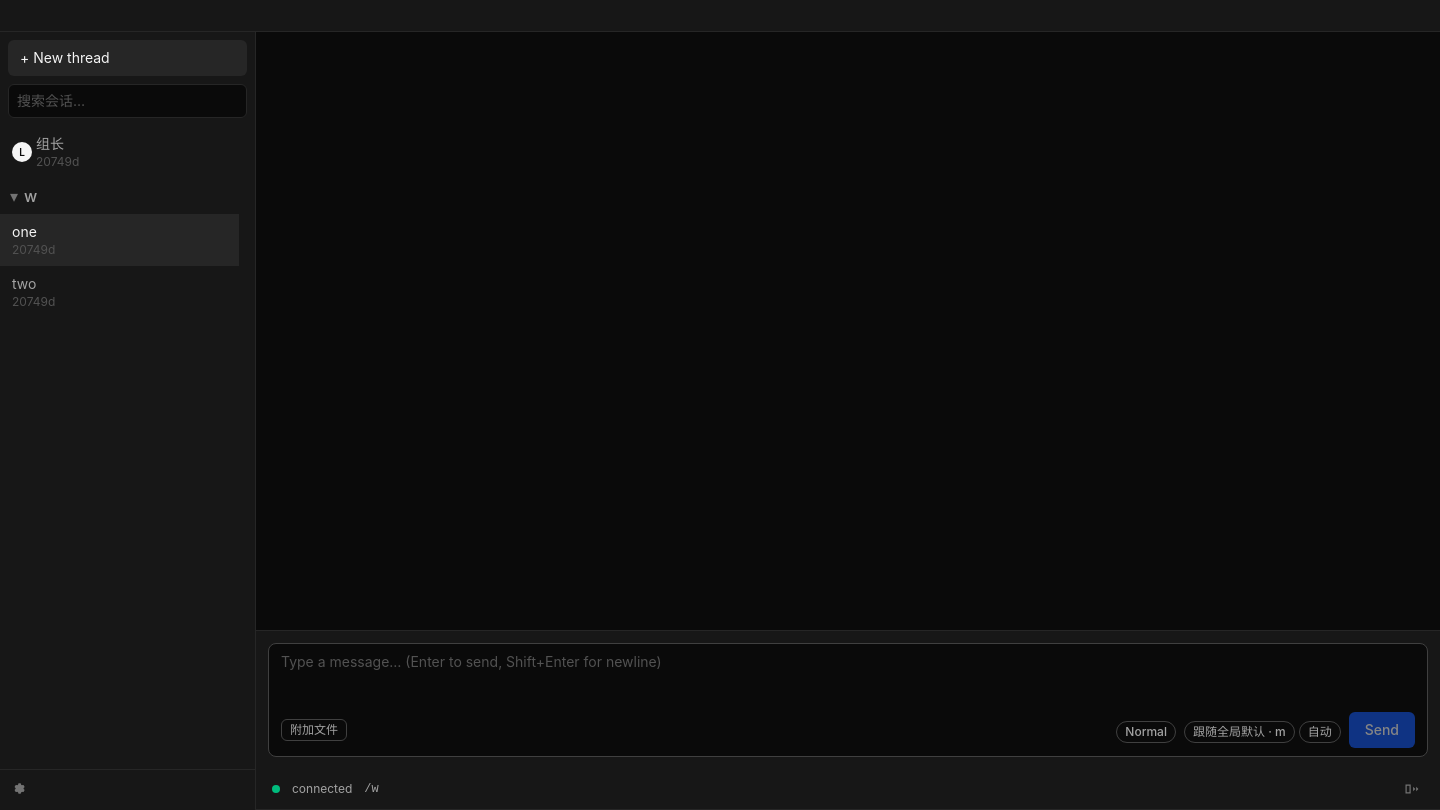
Scenario: App parallel threads › re-derives the chip on a warm switch (per-thread mode)
expect the button with aria-label "mode" reads "Normal": met, box [1116,720,1176,742]
Click the text "two".
click(24, 284)  # box [12,274,36,294]
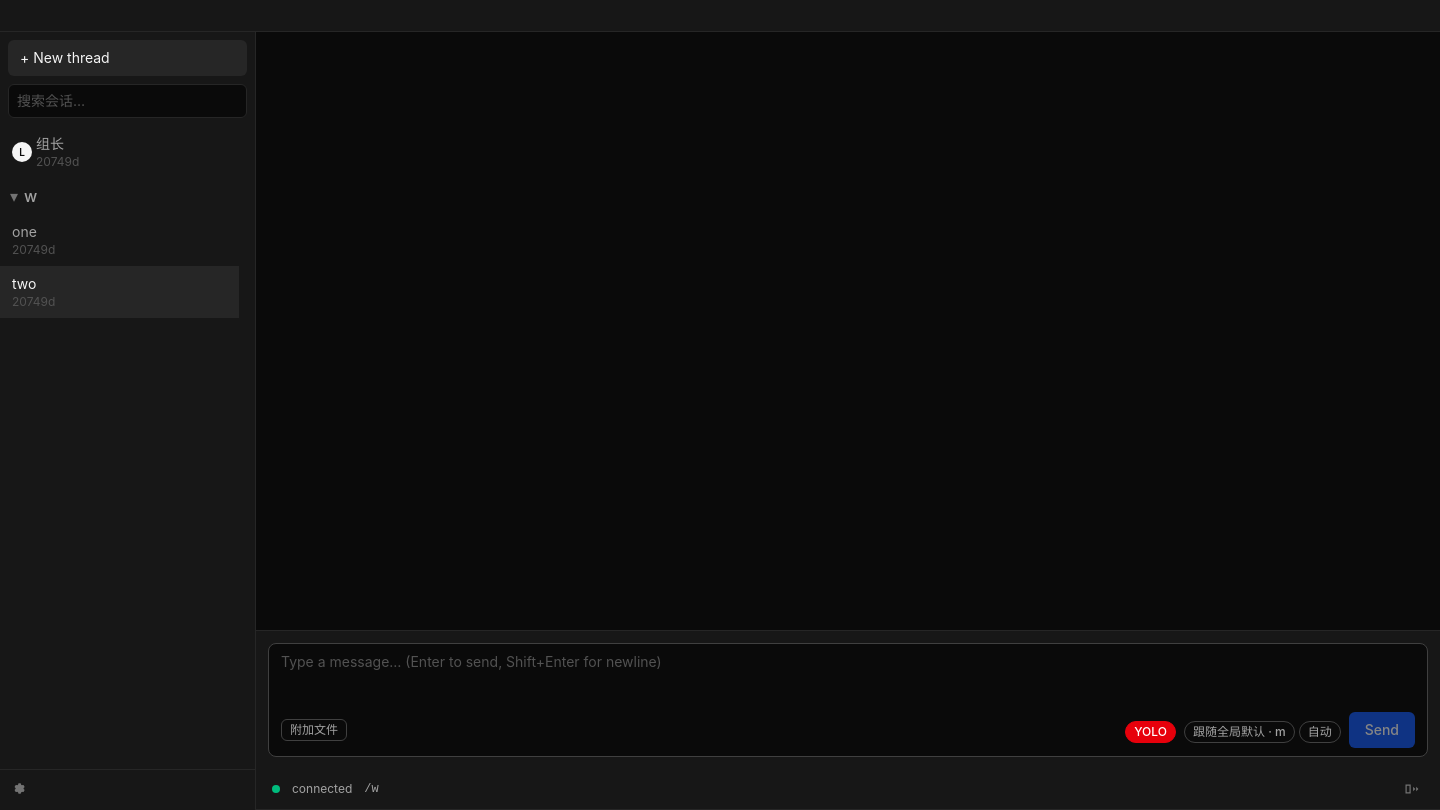
expect the button with aria-label "mode" reads "YOLO": met, box [1125,720,1176,742]
Click the text "one".
click(24, 232)  # box [12,222,37,242]
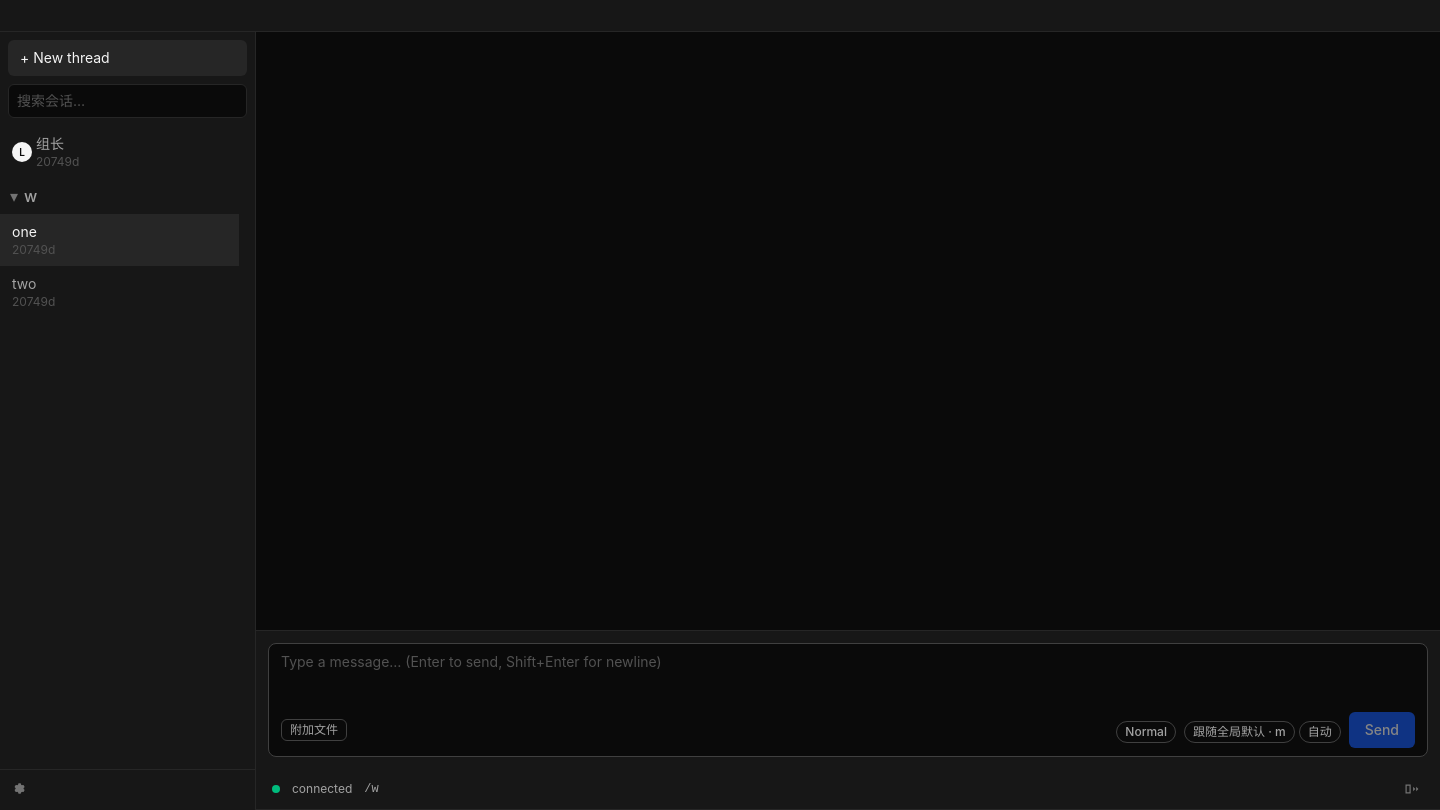
expect the button with aria-label "mode" reads "Normal": met, box [1116,720,1176,742]
expect the button "mode" no longer shows "YOLO": met
